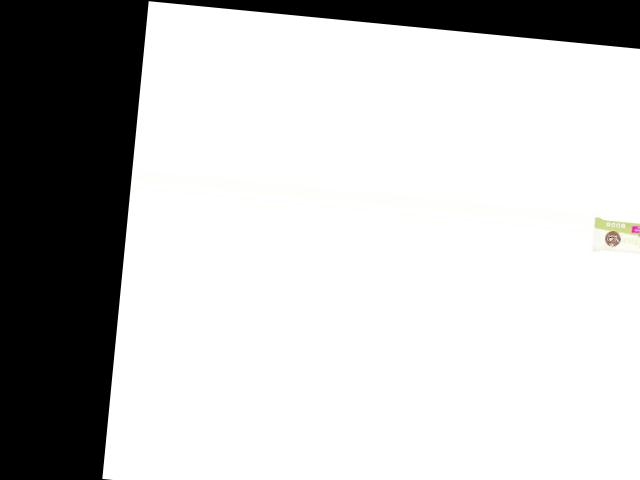chocolate: (592, 213, 640, 263)
